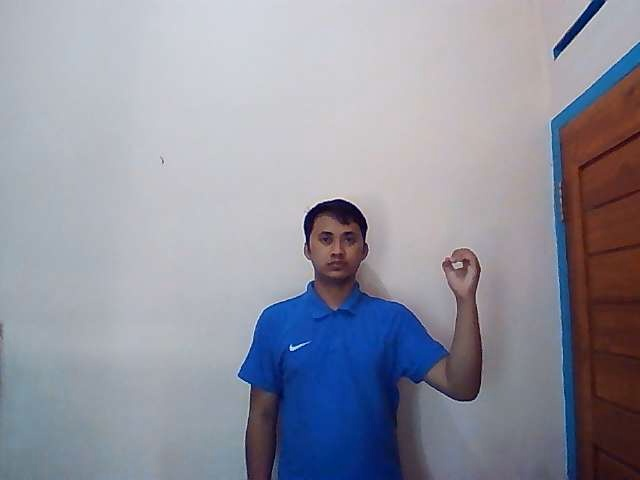O: (441, 247, 481, 295)
